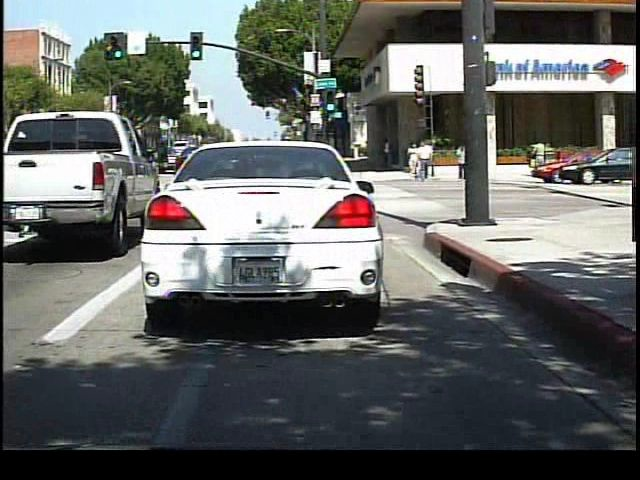person: (452, 136, 470, 182), (417, 137, 435, 183), (528, 136, 549, 175), (407, 140, 421, 182)
